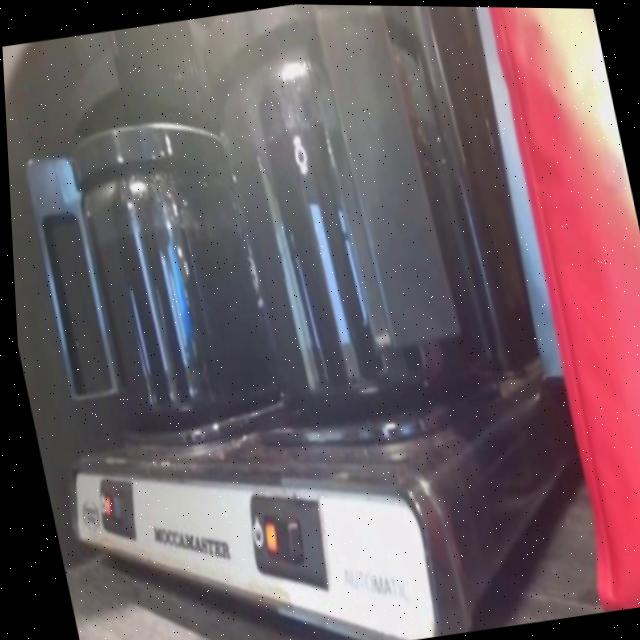coffee: (214, 57, 487, 417), (73, 166, 278, 428)
